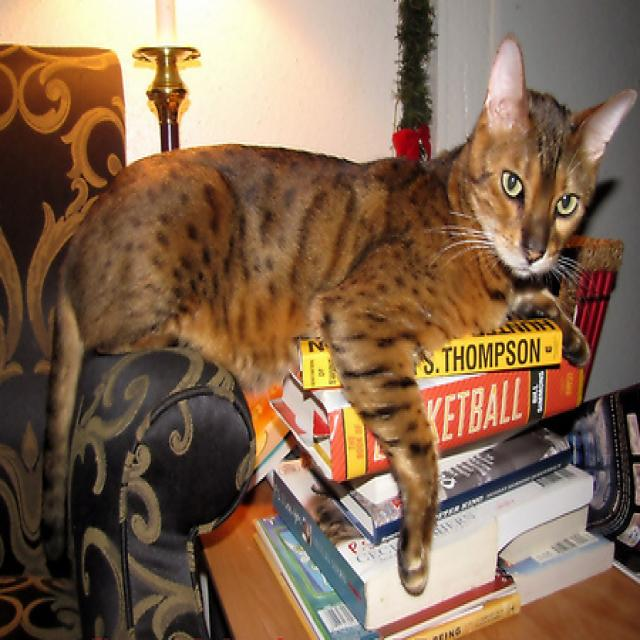Bengal: (32, 30, 640, 603)
